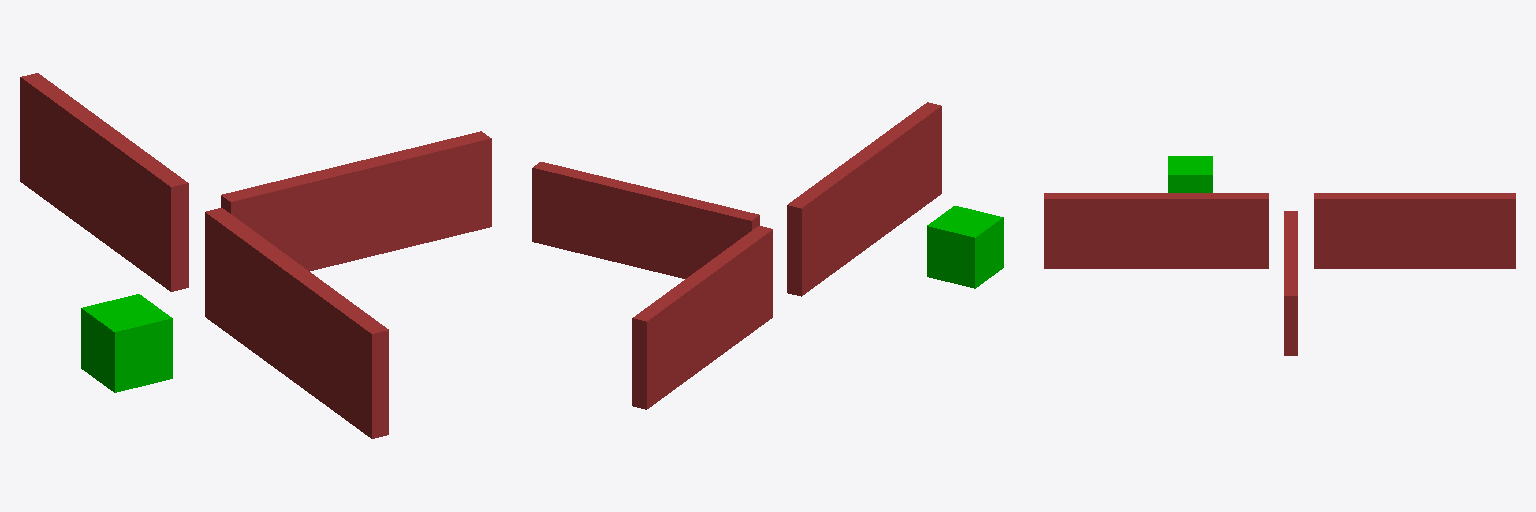
The robot description file, URDF, robot "cube_scene":
<?xml version="1.0"?>
  <robot name="cube_scene">
    <link name="base_link"/>

    <link name="table">
      <visual>
        <geometry>
          <mesh filename="file://[local-path]/Desktop/blenderFLEX/maze1.dae" scale = " 0.50 0.50 0.50"/>
        </geometry>
        <origin rpy="0 0 0" xyz="0 0 0" />

<material name = "">
  <color rgba="0.7490 0.7176 0.7921 1"/>
      </material>

      </visual>

      <collision>
        <geometry>
          <mesh filename="file://[local-path]/Desktop/blenderFLEX/maze1.dae" scale = " 0.50 0.50 0.50"/>
        </geometry>
        <origin rpy="0 0 0" xyz="0 0 0" />       
       </collision>
    </link>

    <link name="cube1">
      <visual>
        <geometry>
          <box size="0.1 0.1 0.1"/>
        </geometry>
        <origin rpy="0 0 0" xyz="0 0 0" />
      <material name = "">
          <color rgba="0.0 0.8 0.0 1.0"/>
      </material>
      </visual>
      <collision>
        <geometry>
          <box size="0.1 0.1 0.1"/>
        </geometry>
        <origin rpy="0 0 0" xyz="0 0 0" />       
       </collision>
    </link>

     <link name="door1">
      <visual>
        <geometry>
          <box size="0.03 0.5 0.173"/>
        </geometry>
        <origin rpy="0 0 0" xyz="0.0 0.25 0" />
        <material name = "">
          <color rgba="0.6901 0.2509 0.2509 1.0"/>
      </material>
      </visual>
      <collision>
        <geometry>  
          <box size="0.03 0.5 0.173"/>
        </geometry>
        <origin rpy="0 0 0" xyz="0.0 0.25 0" />       
       </collision>
    </link>


     <link name="door3">
      <visual>
      <origin rpy="0 0 0" xyz="0 0.225 0" />
        <geometry>
          <box size="0.03 0.45 0.173"/>
        </geometry>
             <material name = "">
          <color rgba="0.6901 0.2509 0.2509 1.0"/>
      </material>
      </visual>
      <collision>       
        <geometry>  
          <box size="0.03 0.45 0.173"/>
        </geometry>
        <origin rpy="0 0 0" xyz="0 0.225 0" />
       </collision>
    </link>


     <link name="door2">
      <visual>
      <origin rpy="0 0 0" xyz="0 -0.225 0" />
        <geometry>
          <box size="0.03 0.45 0.146"/>
        </geometry>
             <material name = "">
          <color rgba="0.6901 0.2509 0.2509 1.0"/>
      </material>
      </visual>
      <collision>       
        <geometry>  
          <box size="0.03 0.45 0.146"/>
        </geometry>
        <origin rpy="0 0 0" xyz="0 -0.225 0" />
       </collision>
    </link>

<link name ="cube_x"/>

<joint name="table_j" type="fixed">
    <origin rpy="0 0 0" xyz="0.75 -0.6 0.23" />
    <parent link="base_link" />
    <child link="table" />
    <axis xyz="0 1 0" />
  </joint>



<joint name="cube_joint" type="prismatic">
    <origin rpy="0 0 0" xyz="0.50 -0.8 0.75" />
    <parent link="base_link" />
    <child link="cube_x" />
   <axis xyz="0 1 0" />
  <limit lower="-0.2" upper="0.7" effort="0.05" velocity="1.57"/>
  </joint>


<joint name="cube_joint2" type="prismatic">
    <origin rpy="0 0 0" xyz="0.0 0 0.0" />
    <parent link="cube_x" />
    <child link="cube1" />
   <axis xyz="1 0 0" />
  <limit lower="0.0" upper="0.65" effort="0.05" velocity="1.57"/>
  </joint>


    <joint name="door_joint1" type="revolute">
        <origin rpy="0 0 0" xyz="0.75 -1.125 0.755"/>
        <parent link="base_link"/>
        <child link="door1"/>
        <axis xyz="0 0 1"/>
        <limit lower="-1.57" upper="1.57" effort="0.05" velocity="1.57"/>
    </joint>

 <joint name="door_joint2" type="revolute">
        <origin rpy="0 0 -1.57" xyz="1.25 -0.575 0.755"/>
        <parent link="base_link"/>
        <child link="door2"/>
        <axis xyz="0 0 1"/>
        <limit lower="-1.57" upper="1.57" effort="0.05" velocity="1.57"/>
    </joint>


    <joint name="door_joint3" type="revolute">
        <origin rpy="0 0 0" xyz="0.75 -0.525 0.755"/>
        <parent link="base_link"/>
        <child link="door3"/>
        <axis xyz="0.0 0.0 1"/>
        <limit lower="-1.57" upper="1.57" effort="0.05" velocity="1.57"/>
    </joint>

</robot>

--- Facts derived from the render (not from the file) ---
The picture shows the robot from 3 angles, left to right: view 1: azimuth 30°, elevation 25°; view 2: azimuth 150°, elevation 25°; view 3: azimuth 270°, elevation 25°; orthographic projection.
Robot: cube_scene — 7 links, 6 joints (3 revolute, 2 prismatic, 1 fixed); root link base_link; default pose: every joint at zero.
Visible links, largest first — view 1: door2, door1, door3, cube1; view 2: door2, door1, door3, cube1; view 3: door1, door3, door2, cube1.
Link boxes in pixels (x1,y1,x2,y2): door2: (221,131,491,271); door1: (205,208,388,438); door3: (20,73,188,291); cube1: (81,294,172,392); door2: (532,162,759,278); door1: (787,102,941,296); door3: (632,226,772,409); cube1: (927,206,1003,288); door1: (1044,193,1268,268); door3: (1314,193,1515,268); door2: (1284,211,1297,355); cube1: (1168,156,1212,192).
Bounding box of the posed robot: 0.8 × 1.05 × 0.173 m (x, y, z).
Geometry: only primitive shapes (box / cylinder / sphere) drawn; not drawn: 1 mesh visual (reference in a form the renderer does not follow).